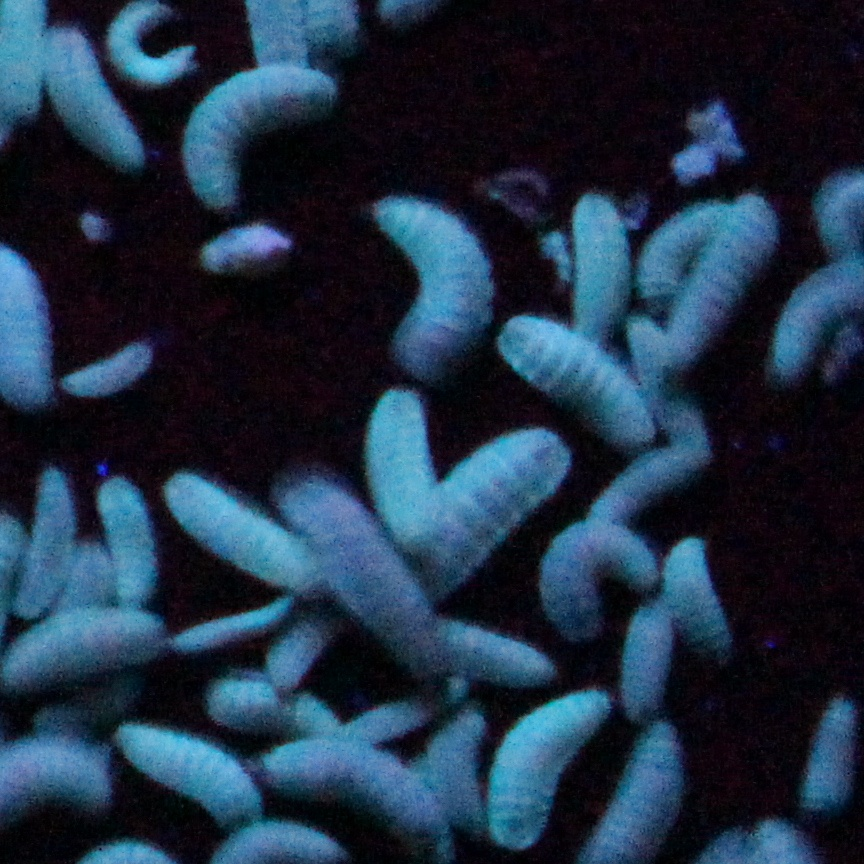larve: (273, 469, 461, 660), (368, 191, 502, 382), (657, 182, 784, 369), (400, 437, 568, 575), (495, 310, 659, 448), (191, 62, 339, 214), (159, 460, 329, 585), (484, 694, 614, 855), (43, 23, 148, 182), (282, 737, 450, 828), (539, 514, 666, 632), (118, 721, 279, 814), (359, 391, 443, 560), (584, 423, 727, 514), (657, 530, 743, 671), (620, 205, 727, 312), (570, 187, 639, 339), (16, 466, 77, 616), (611, 605, 684, 723), (109, 3, 200, 91), (93, 478, 154, 600), (439, 616, 554, 680), (807, 689, 861, 821), (43, 346, 159, 396), (202, 666, 298, 725), (198, 223, 300, 275), (173, 607, 304, 646), (259, 632, 339, 685)
